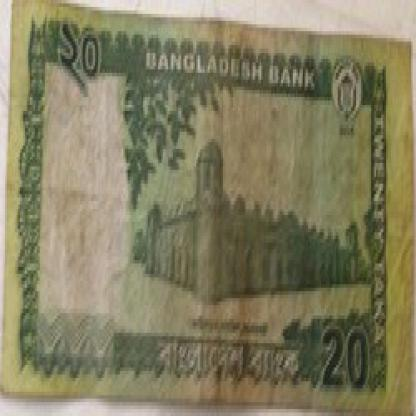Twenty: (318, 319, 379, 412), (52, 21, 113, 90)
